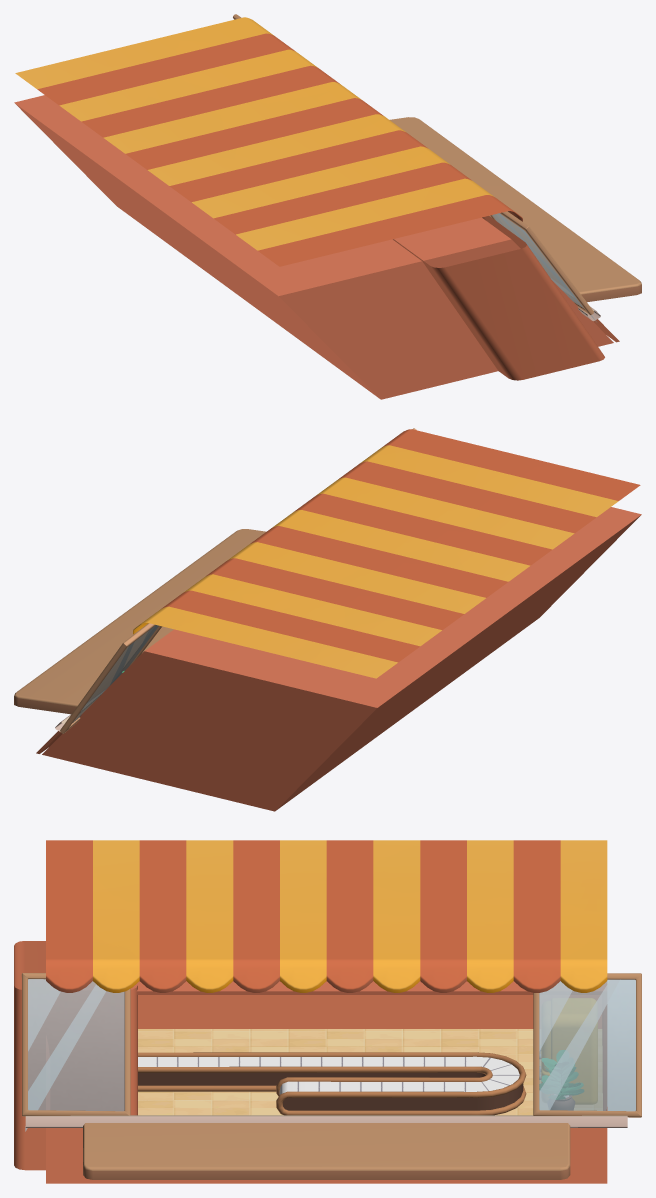
The model's file is Map_coffee.fbx.
The picture shows the model from 3 angles, top to bottom: view 1: azimuth 30°, elevation 25°; view 2: azimuth 150°, elevation 25°; view 3: azimuth 270°, elevation 25°; orthographic projection. The views are drawn at different scales.
Visible parts, largest first — view 1: decor, nha, bantrado, glass1; view 2: decor, nha, bantrado, glass2; view 3: decor, nha, bantrado, sweep3, san, glass2, glass1, polySurface307, tulanh, tree.
Boxes of the visible parts, bbox=[...] form: decor: bbox=[15, 17, 604, 380]; nha: bbox=[14, 95, 619, 399]; bantrado: bbox=[390, 117, 641, 302]; glass1: bbox=[489, 211, 596, 321]; decor: bbox=[133, 429, 640, 678]; nha: bbox=[36, 507, 641, 811]; bantrado: bbox=[14, 529, 265, 714]; glass2: bbox=[60, 623, 162, 733]; decor: bbox=[14, 840, 607, 1170]; nha: bbox=[25, 981, 627, 1183]; bantrado: bbox=[83, 1123, 570, 1179]; sweep3: bbox=[138, 1052, 526, 1115]; san: bbox=[138, 1029, 602, 1115]; glass2: bbox=[533, 973, 641, 1117]; glass1: bbox=[21, 973, 130, 1131]; polySurface307: bbox=[138, 1056, 519, 1094]; tulanh: bbox=[539, 998, 597, 1104]; tree: bbox=[539, 1050, 583, 1110].
Size of the model in its own units: 105 by 41.22 by 140.
Materials: 6 (4 with a texture image).
